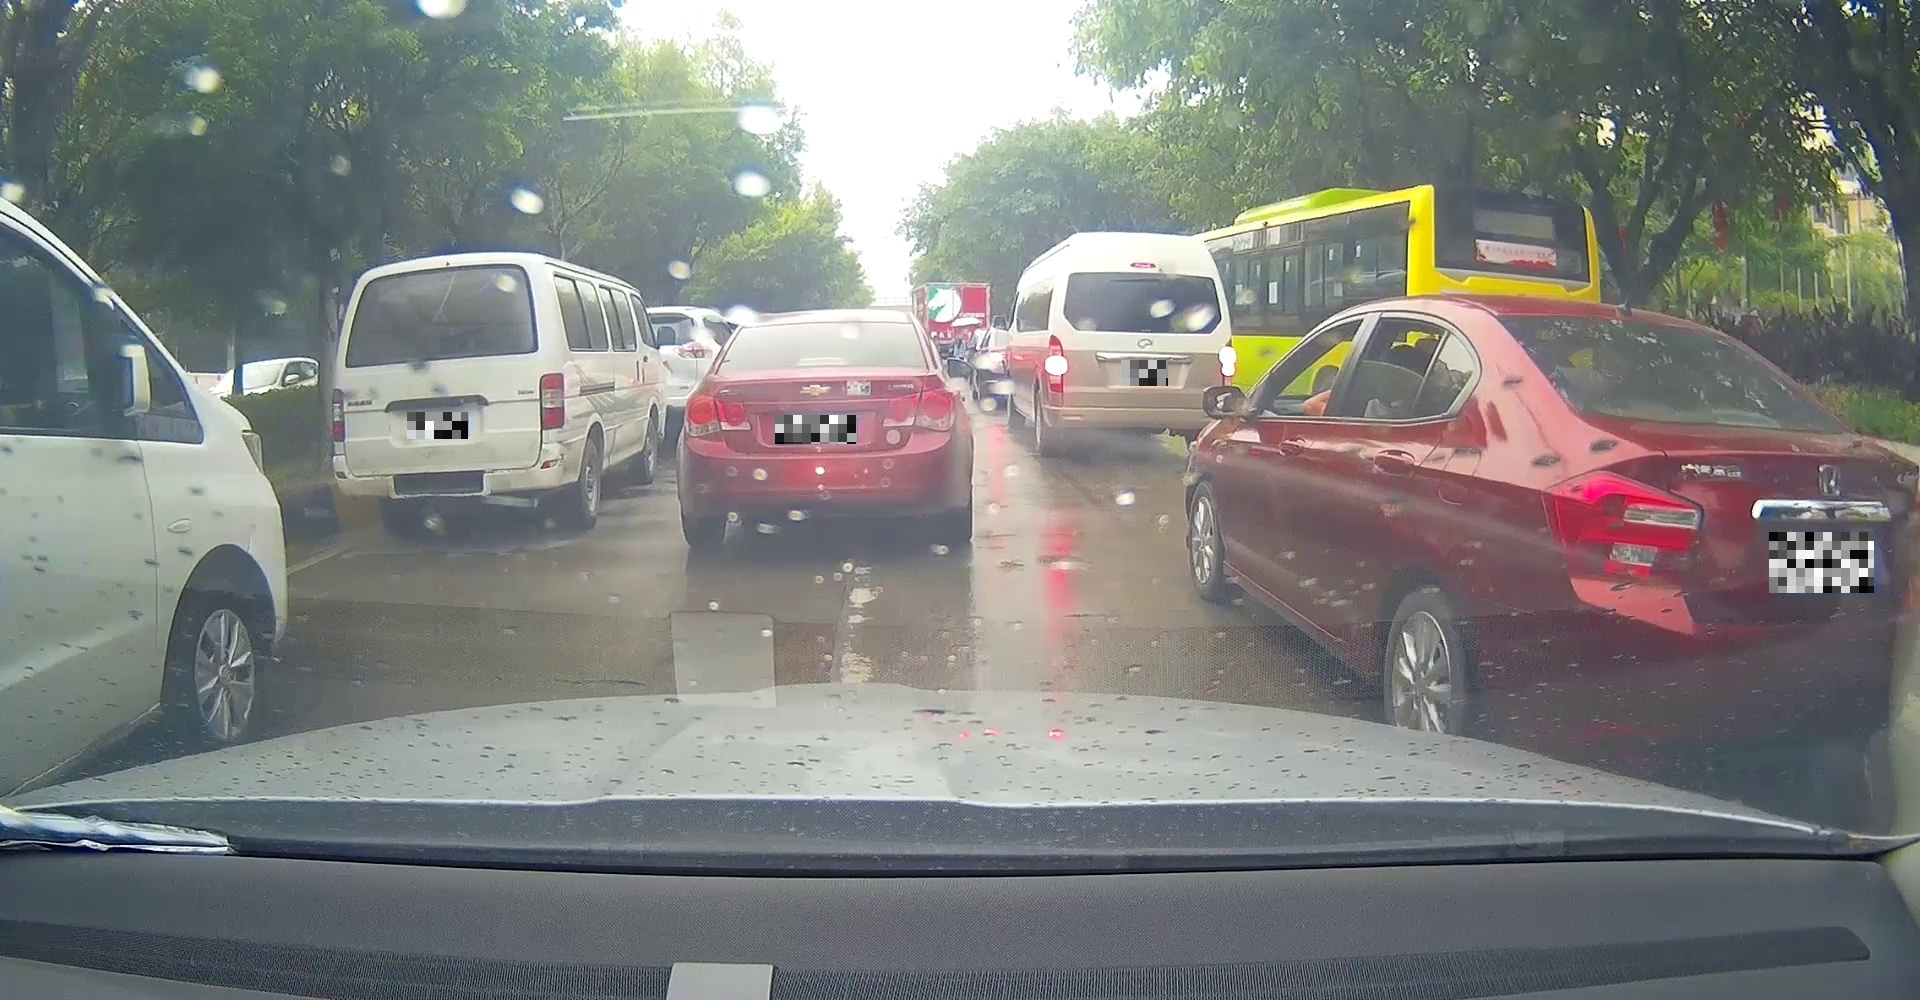L_light: (682, 393, 752, 437), (1046, 334, 1064, 393), (331, 388, 345, 442)
R_light: (881, 386, 959, 431), (538, 373, 565, 431), (1222, 339, 1233, 388)
T_light: (796, 357, 846, 368), (415, 268, 453, 277), (1130, 261, 1157, 269)
day-brake: (1043, 231, 1237, 454)
day-no: (676, 308, 971, 548), (329, 251, 571, 538)
plate_1: (408, 412, 469, 439)
plate_2: (775, 415, 856, 444)
plate_3: (1121, 360, 1168, 386)
plate_4: (1769, 532, 1874, 593)
